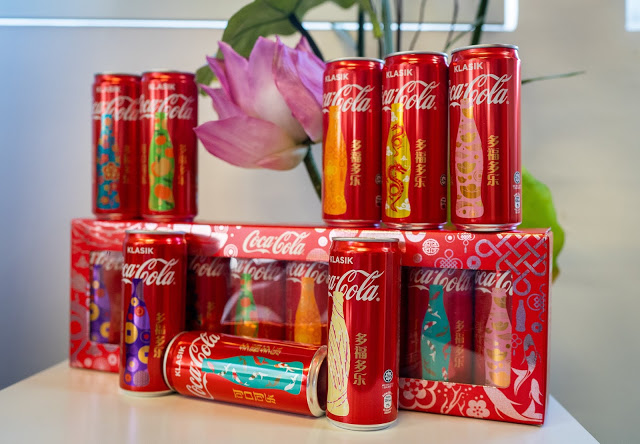cocacola_blue_fish: (165, 327, 329, 415), (403, 252, 476, 402)
cocacola_blue_flowers: (91, 72, 140, 218)
cocacola_green_apples: (139, 71, 198, 222), (228, 252, 282, 349)
cocacola_pink_feather: (450, 45, 518, 233), (473, 263, 524, 403)
cocacola_violet_balls: (123, 232, 183, 393), (81, 240, 122, 357)
cocacola_white_lines: (330, 237, 396, 432)
cocacola_yellow_dragons: (381, 51, 449, 229)
cocacola_yellow_pattern: (322, 57, 377, 225), (281, 258, 329, 353)
